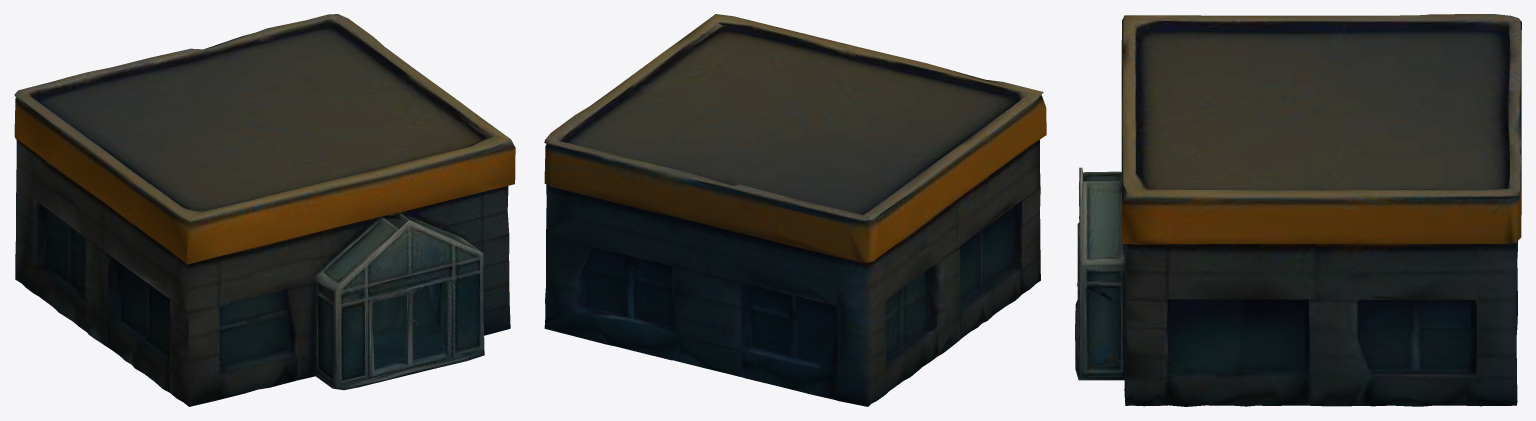
Rendered from centrum.glb.
The picture shows the model from 3 angles, left to right: view 1: azimuth 30°, elevation 25°; view 2: azimuth 150°, elevation 25°; view 3: azimuth 270°, elevation 25°; orthographic projection. The views are drawn at different scales.
Parts seen in each view (by area): view 1: tripo_node_1149abf7-186c-4928-8bf2-48db91c29923; view 2: tripo_node_1149abf7-186c-4928-8bf2-48db91c29923; view 3: tripo_node_1149abf7-186c-4928-8bf2-48db91c29923.
Part boxes in pixels (box(x1,y1,x2,y2)): tripo_node_1149abf7-186c-4928-8bf2-48db91c29923: box(14, 14, 515, 406); tripo_node_1149abf7-186c-4928-8bf2-48db91c29923: box(544, 14, 1046, 406); tripo_node_1149abf7-186c-4928-8bf2-48db91c29923: box(1075, 14, 1521, 406).
Bounding box in the file's own units: 0.9606 × 0.5288 × 1.
1 material, 1 textured.
